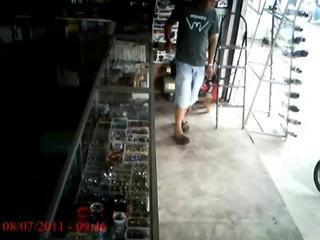Normal: (164, 0, 220, 145)
